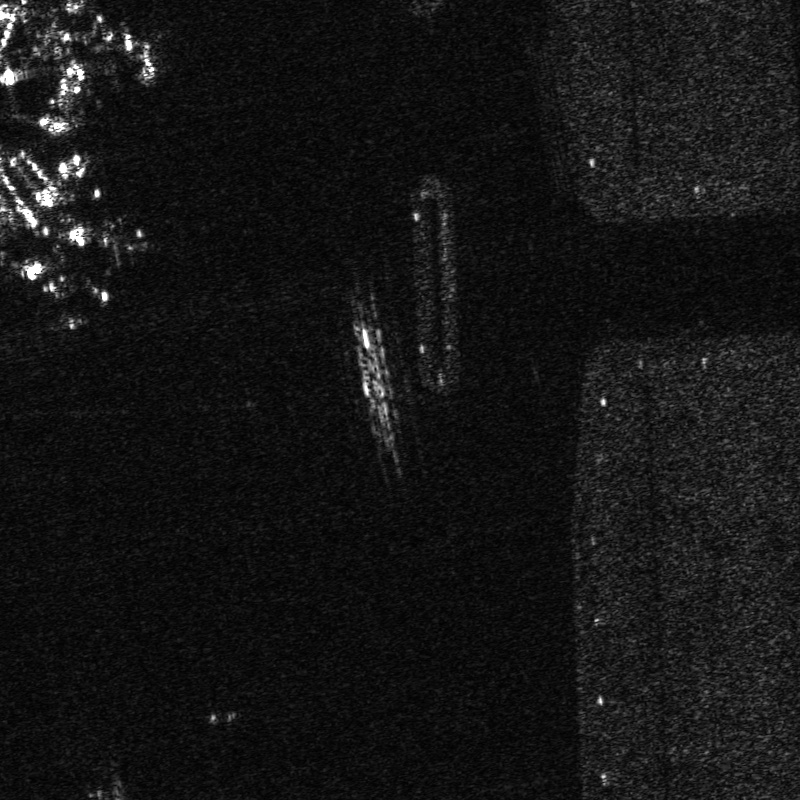A320/321: (59, 211, 152, 272)
Boeing737: (12, 251, 126, 314)
